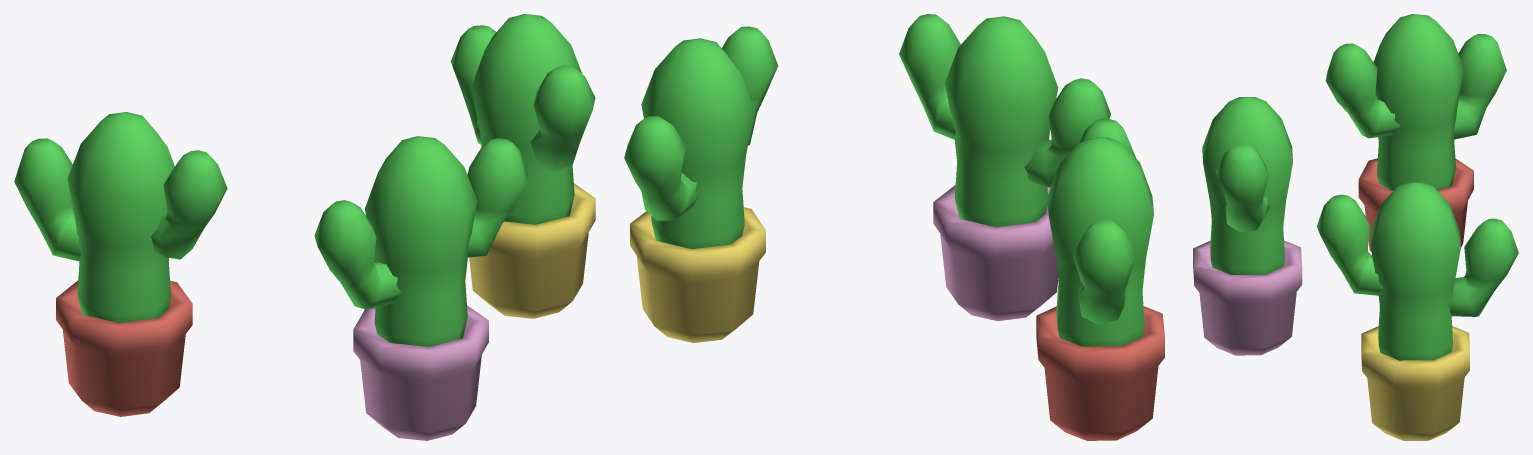
Rendered from cactus bonbon.fbx.
The picture shows the model from 3 angles, left to right: view 1: azimuth 30°, elevation 25°; view 2: azimuth 150°, elevation 25°; view 3: azimuth 270°, elevation 25°; orthographic projection. The views are drawn at different scales.
Parts seen in each view (by area): view 1: Cylinder.001, Cylinder.000, Cylinder.002; view 2: Cylinder.001, Cylinder.002, Cylinder.000; view 3: Cylinder.002, Cylinder.000, Cylinder.001.
Part boxes in pixels (x1,y1,x2,y2): Cylinder.001: (314, 136, 528, 440); Cylinder.000: (14, 112, 227, 416); Cylinder.002: (450, 14, 595, 318); Cylinder.001: (899, 14, 1110, 321); Cylinder.002: (624, 26, 778, 343); Cylinder.000: (1036, 119, 1164, 440); Cylinder.002: (1316, 182, 1518, 440); Cylinder.000: (1325, 14, 1506, 251); Cylinder.001: (1193, 97, 1302, 355).
Size of the model in its own units: 985 by 513 by 618.
